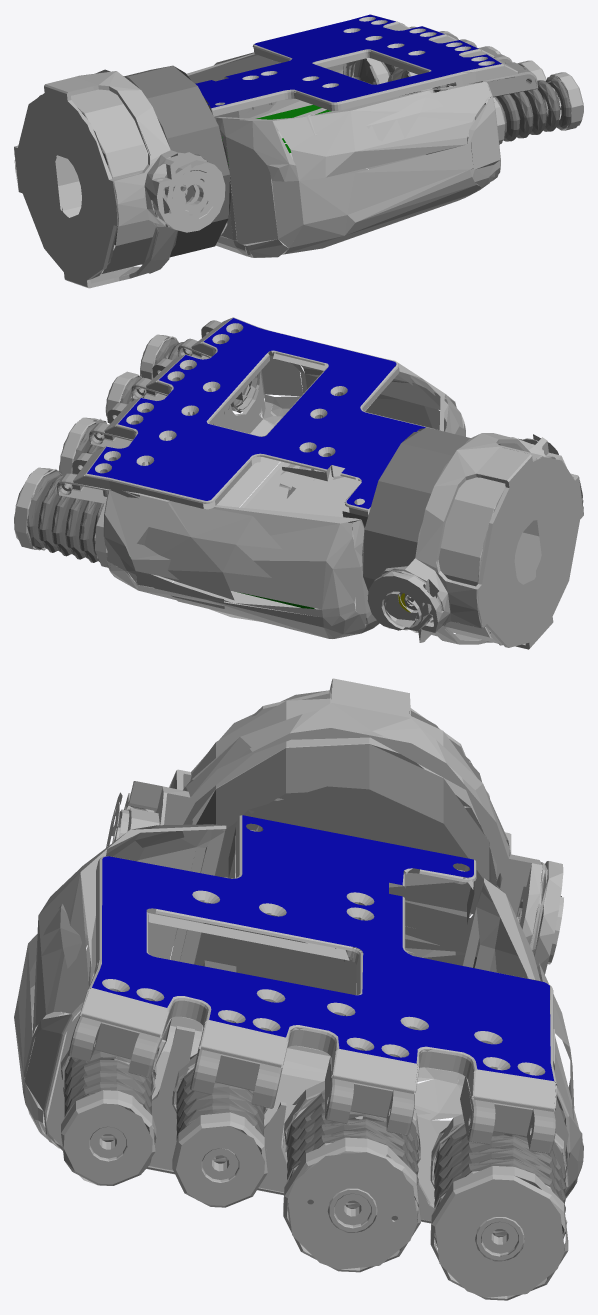
File: ArmL_Wri2_joint_visu.dae
3 views of the same model, one above another, from view 1: azimuth 30°, elevation 25°; view 2: azimuth 150°, elevation 25°; view 3: azimuth 270°, elevation 25° (orthographic). The views are drawn at different scales.
Visible parts, largest first — view 1: Visualization_ALDof8; view 2: Visualization_ALDof8; view 3: Visualization_ALDof8.
Part boxes in pixels (bbox=[...]): Visualization_ALDof8: bbox=[14, 14, 583, 288]; Visualization_ALDof8: bbox=[14, 317, 583, 649]; Visualization_ALDof8: bbox=[14, 678, 583, 1300].
Bounding box in the file's own units: 0.1182 × 0.0795 × 0.049.
